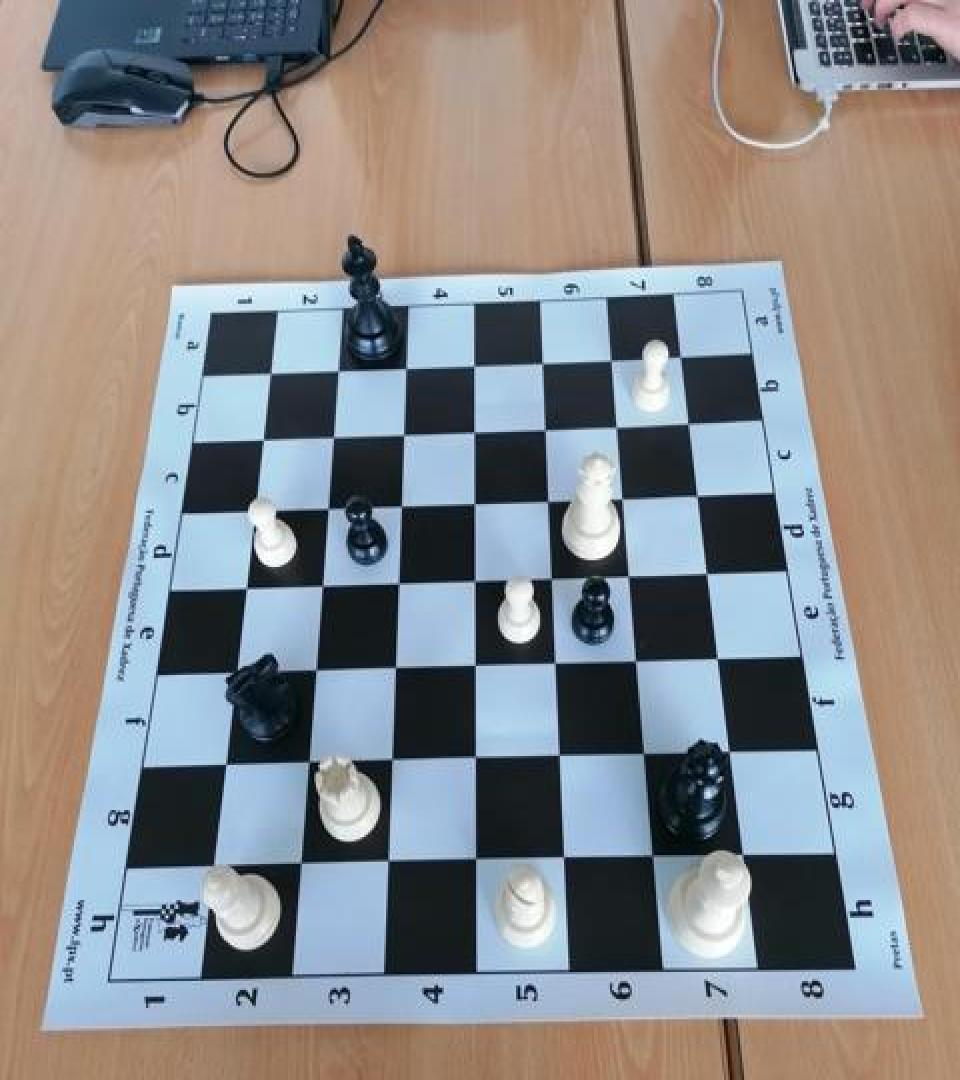xcorner: (622, 644, 654, 681), (219, 653, 251, 690), (459, 741, 491, 778), (374, 742, 406, 779), (638, 841, 670, 878), (548, 842, 580, 879), (667, 336, 699, 372), (597, 340, 629, 376), (527, 342, 559, 378), (458, 346, 490, 382), (390, 348, 422, 384), (322, 351, 354, 387), (254, 353, 286, 389), (675, 404, 707, 440), (602, 406, 634, 442), (530, 410, 562, 446), (458, 412, 490, 448), (387, 414, 419, 450), (316, 418, 348, 454), (246, 420, 278, 456), (684, 477, 716, 513), (608, 479, 640, 515), (533, 482, 565, 518), (458, 484, 490, 520), (384, 487, 416, 523), (311, 490, 343, 526), (238, 492, 270, 528), (694, 556, 726, 592), (615, 558, 647, 594), (536, 560, 568, 596), (458, 562, 490, 598), (381, 565, 413, 601), (305, 567, 337, 603), (229, 569, 261, 605), (705, 642, 737, 678), (540, 646, 572, 682), (458, 648, 490, 684), (378, 650, 410, 686), (298, 652, 330, 688), (717, 737, 749, 773), (630, 738, 662, 774), (544, 740, 576, 776), (291, 745, 323, 781), (208, 746, 240, 782), (729, 840, 761, 876), (459, 844, 491, 880), (370, 845, 402, 881), (283, 846, 315, 882), (196, 847, 228, 883)
